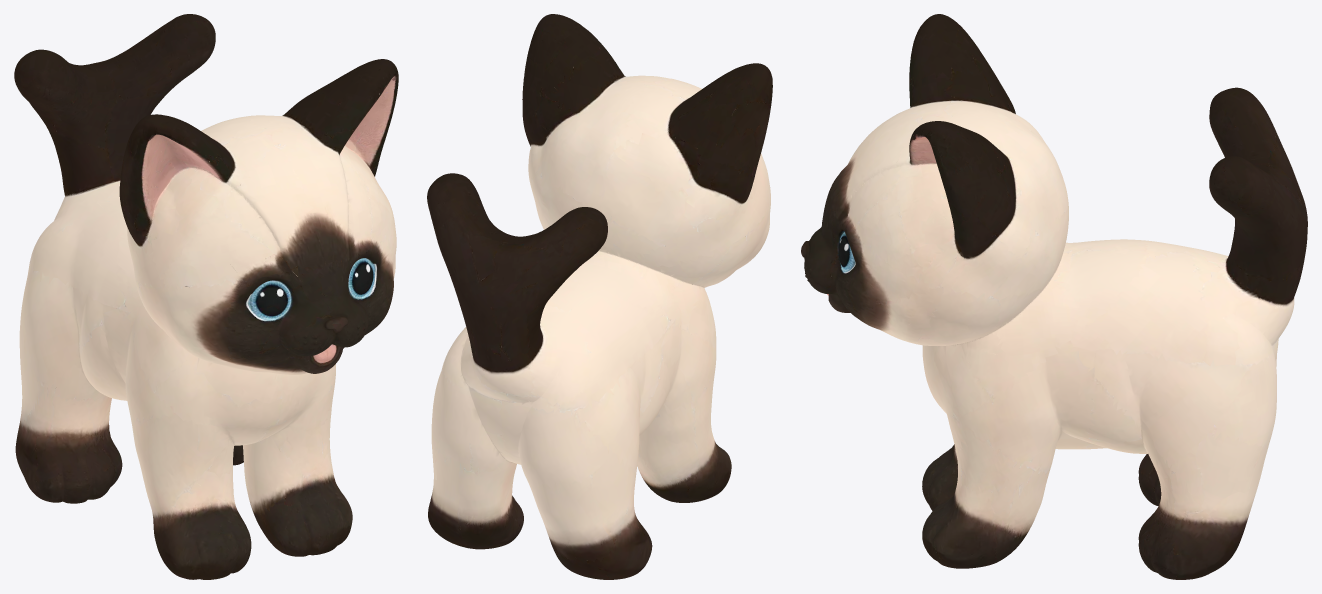
Rendered from meshy-thai.glb.
3 views of the same model, side by side, from view 1: azimuth 30°, elevation 25°; view 2: azimuth 150°, elevation 25°; view 3: azimuth 270°, elevation 25° (orthographic). The views are drawn at different scales.
Visible parts, largest first — view 1: Mesh_0; view 2: Mesh_0; view 3: Mesh_0.
Boxes of the visible parts, x1,y1,x2,y2 form: Mesh_0: (14,14,398,579); Mesh_0: (427,14,772,579); Mesh_0: (801,14,1307,579).
Bounding box in the file's own units: 1.11 × 1.9 × 1.89.
Materials: 1 (1 with a texture image).
